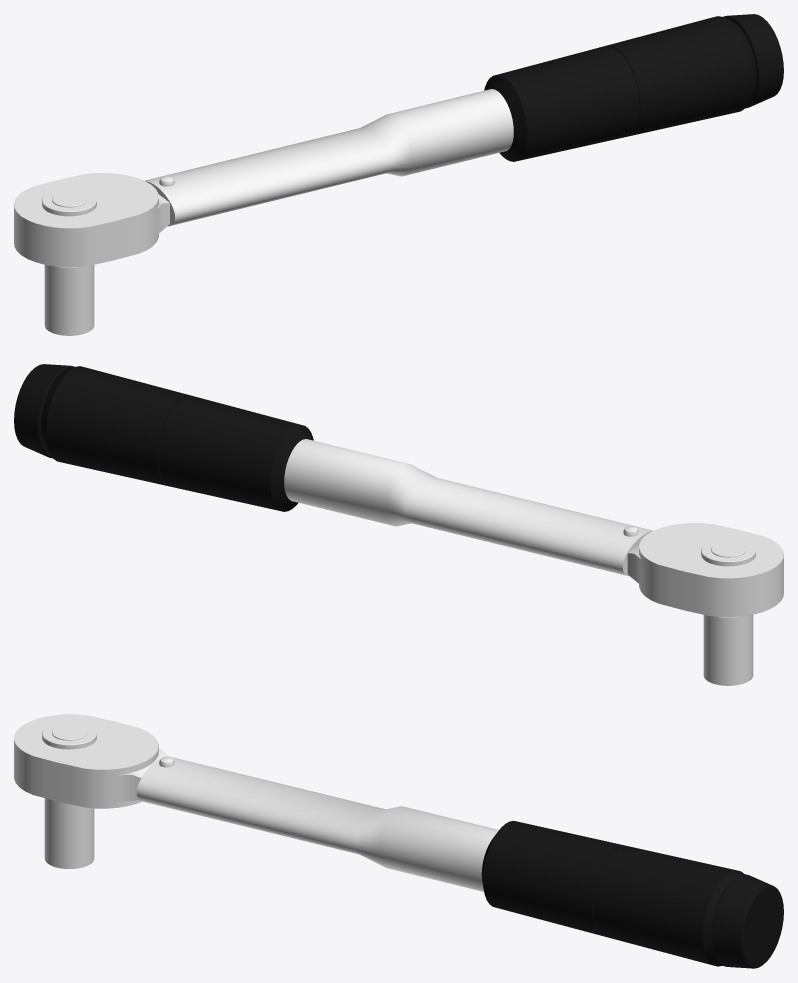
The model's file is Socket_Wrench.glb.
The picture shows the model from 3 angles, top to bottom: view 1: azimuth 30°, elevation 25°; view 2: azimuth 150°, elevation 25°; view 3: azimuth 330°, elevation 25°; orthographic projection.
Visible parts, largest first — view 1: Socket_Wrench_Handle; view 2: Socket_Wrench_Handle; view 3: Socket_Wrench_Handle.
Part boxes in pixels (box(x1,y1,x2,y2)): Socket_Wrench_Handle: box(14, 14, 783, 335); Socket_Wrench_Handle: box(14, 364, 783, 685); Socket_Wrench_Handle: box(14, 714, 783, 968).
Size of the model in its own units: 0.3256 by 0.061 by 0.0429.
Materials: 2 (2 with a texture image).
